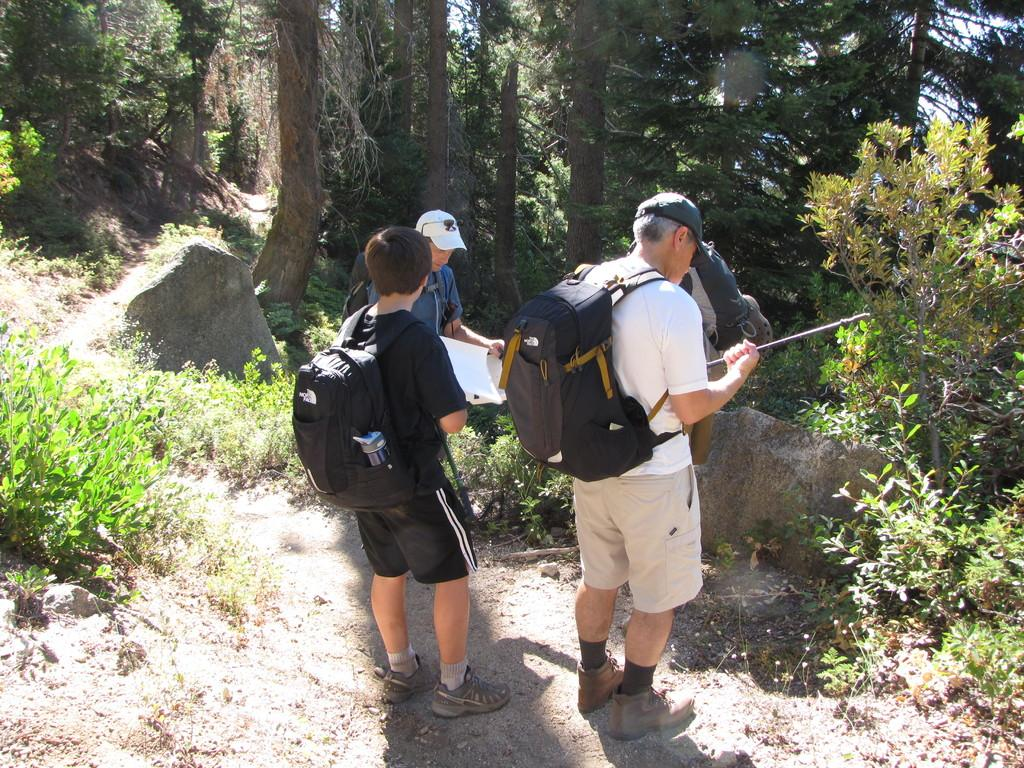Luggage-and-bags: (500, 265, 692, 482), (294, 312, 447, 511), (668, 237, 778, 358), (340, 254, 380, 326)
